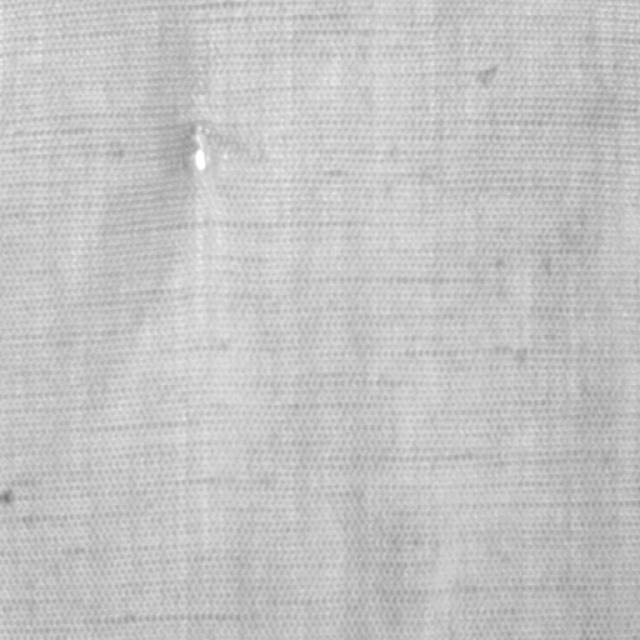hole: (186, 117, 213, 175)
